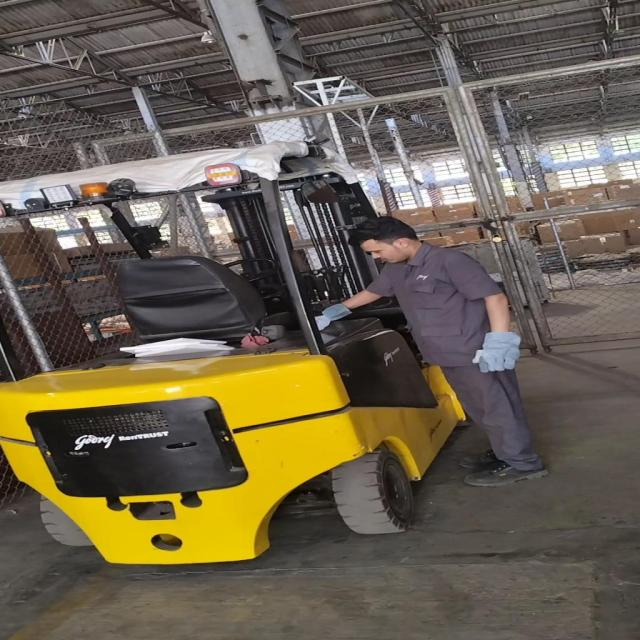Gloves-Detection: (479, 326, 516, 378), (310, 300, 354, 334)
